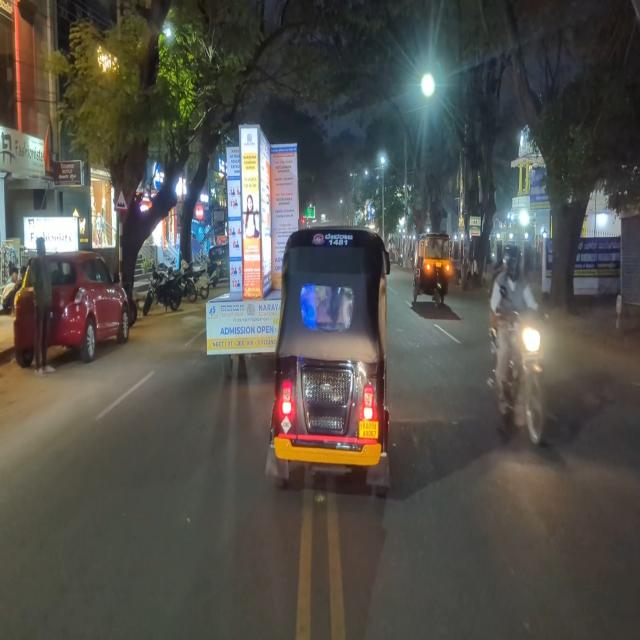bien_cam: (115, 187, 128, 213)
